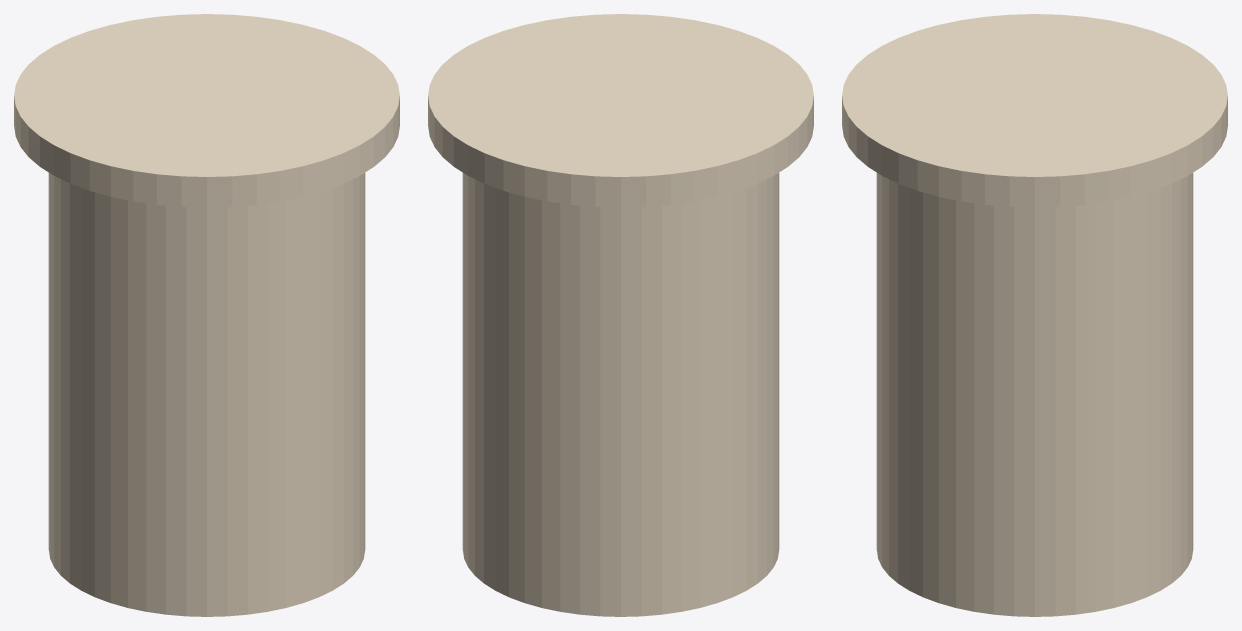
The model's file is cove-side-table-light-oak.glb.
3 renders of one model, left to right at view 1: azimuth 30°, elevation 25°; view 2: azimuth 150°, elevation 25°; view 3: azimuth 270°, elevation 25°, orthographic.
Parts seen in each view (by area): view 1: geometry_0; view 2: geometry_0; view 3: geometry_0.
Part boxes in pixels (x1=…): geometry_0: x1=14, y1=14, x2=399, y2=616; geometry_0: x1=428, y1=14, x2=813, y2=616; geometry_0: x1=842, y1=14, x2=1227, y2=616.
Bounding box in the file's own units: 0.4 × 0.52 × 0.4.
